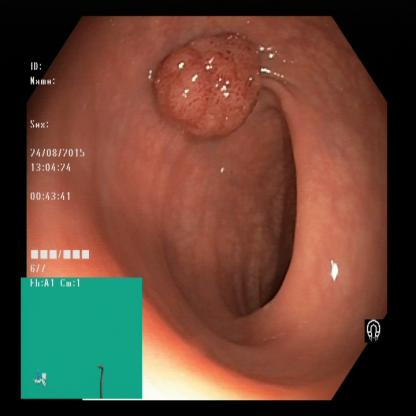Labels: (23, 276, 145, 402), (27, 58, 96, 278), (360, 308, 388, 352)
Polyps: (149, 47, 273, 131)
